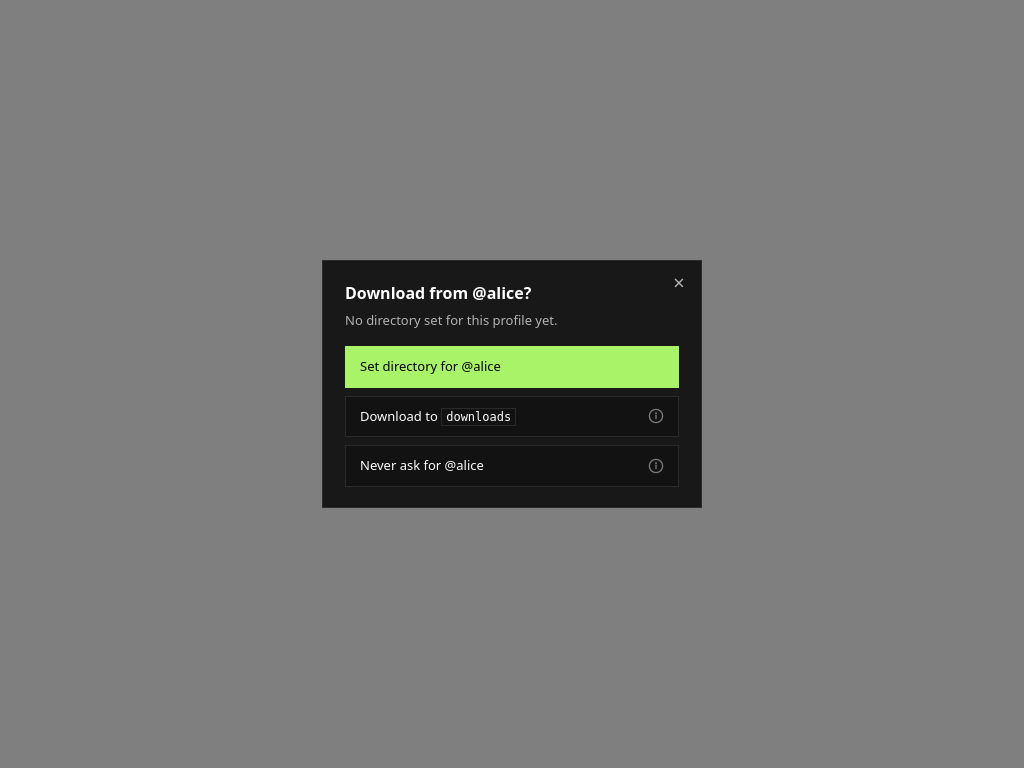
Test: NoDirPopup › hovering the info glyph inside 'Never ask' shows a tooltip about the never-ask list
The image size is (1024, 768).
Hover over the element with test id "info-tooltip-neverask": point(656, 466) [648,458,664,474]
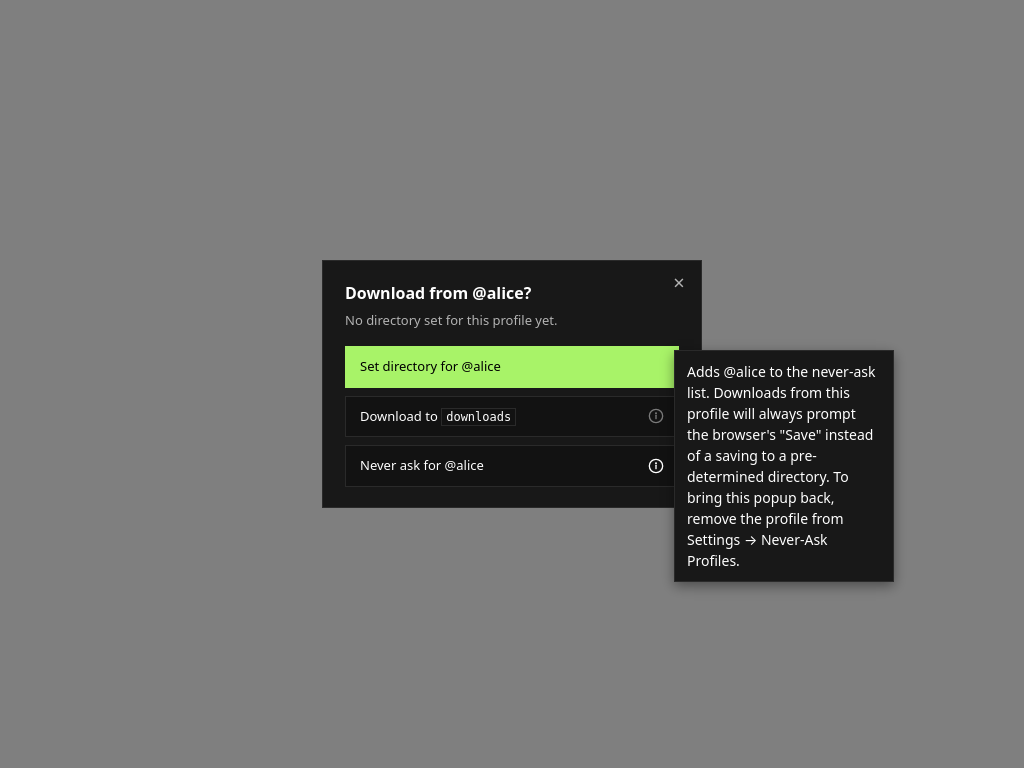
Expected: the tooltip shows "never-ask list", [687,362,876,570]
